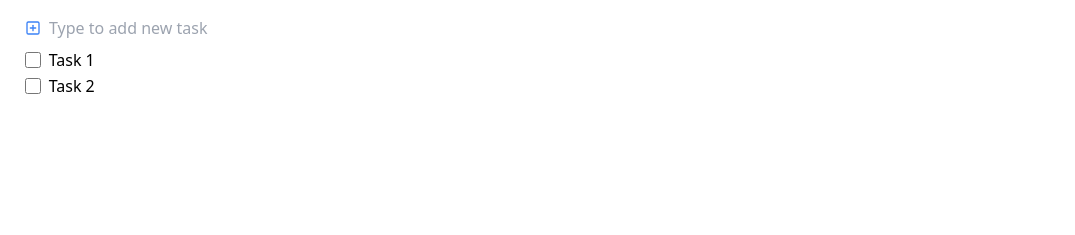
Test case: <App/> › Edit a task › can edit a task
This screenshot has width=1075, height=235.
Click the element named "task-item".
click(72, 60)  # box 49,49 -> 95,71
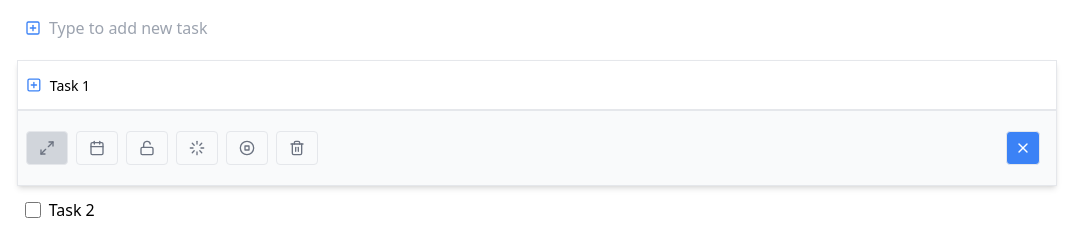
Expected: the text "Type to add new task" is shown, 49,16 -> 208,40
Type " Edited" into the field named "task-content".
click(545, 85); type(" Edited")  # box 42,69 -> 1048,101
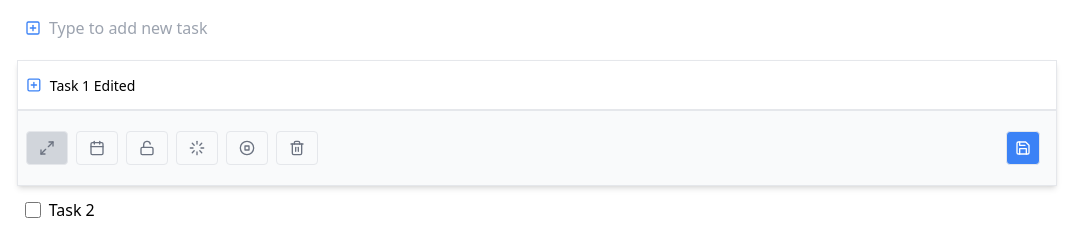
Click the button with test id "edit-save-button".
click(1023, 148)  # box 1006,131 -> 1040,165
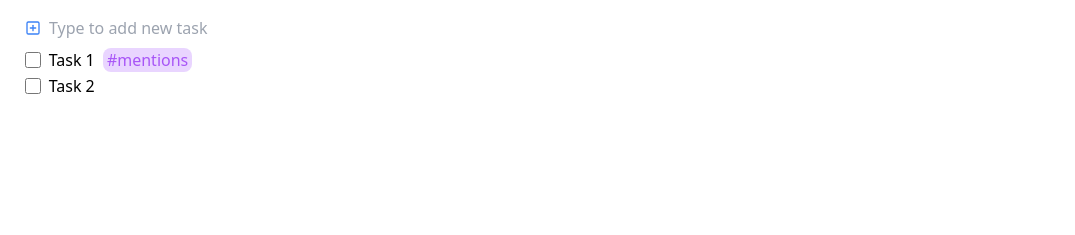
Expected: the text "#mentions" is shown, 103,48 -> 192,72
